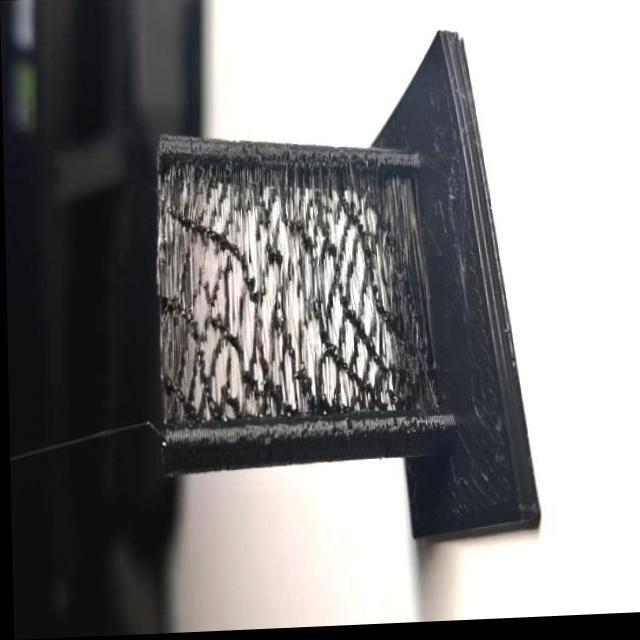stringing: (346, 184, 422, 406), (162, 172, 262, 298), (160, 298, 258, 420), (254, 180, 352, 300), (256, 296, 352, 418)
